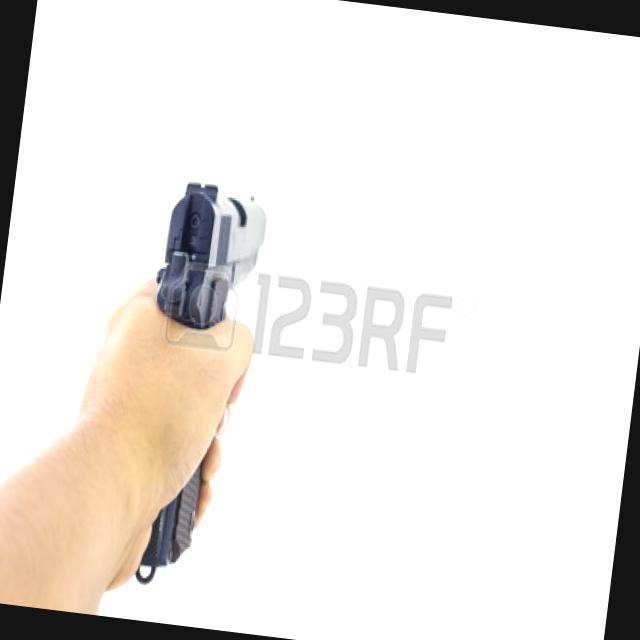handgun: (120, 172, 269, 572)
